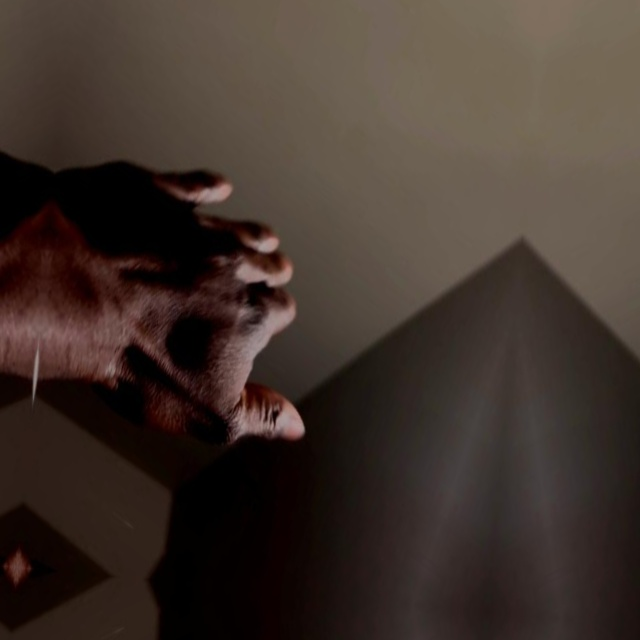Paper: (23, 62, 379, 538)
